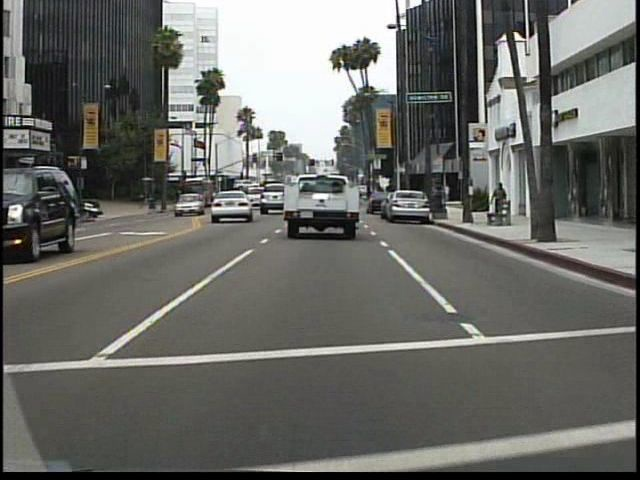person: (490, 181, 509, 222), (139, 189, 149, 213)
